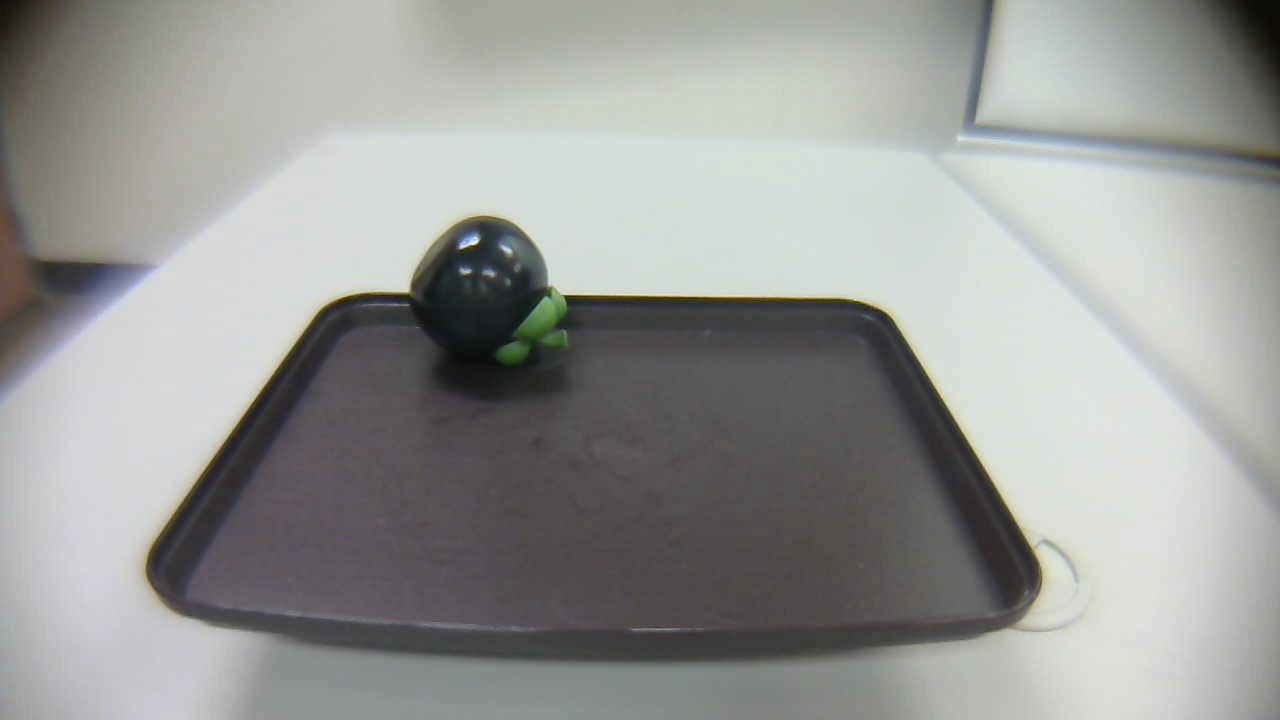mangosteen: (402, 216, 576, 374)
